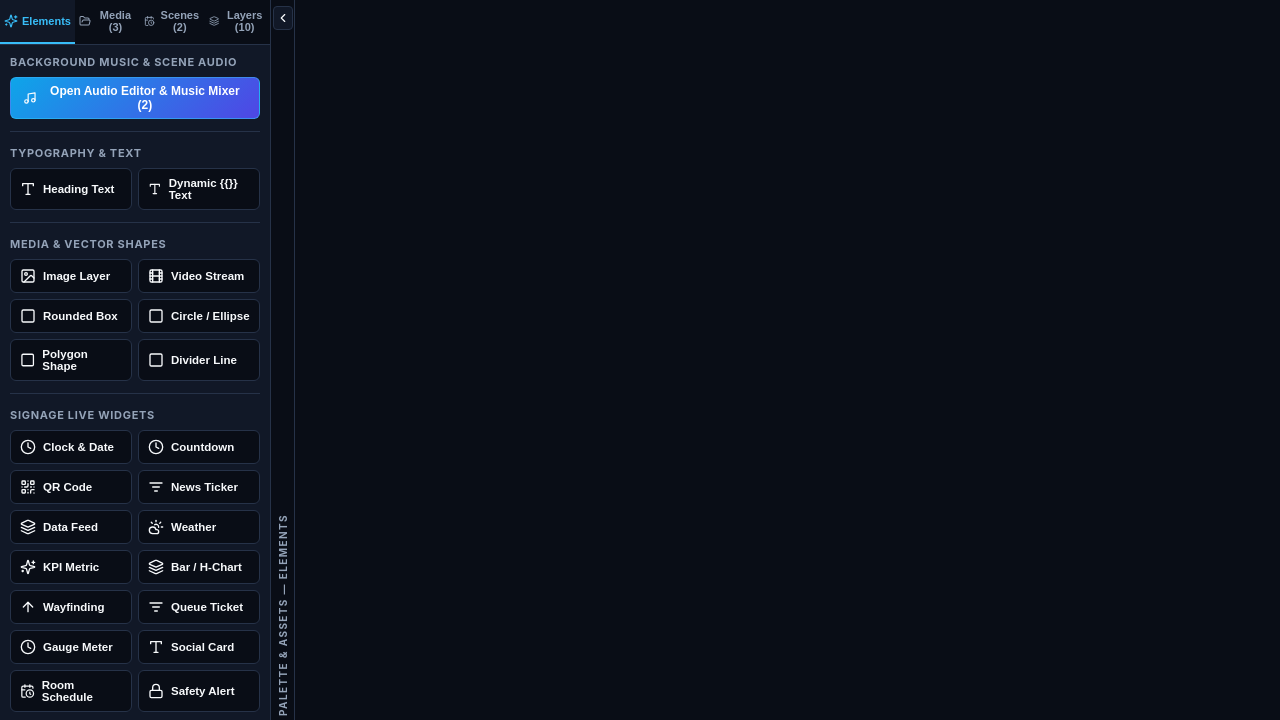
Scenario: scene template workflow › opens the choice from New Scene and creates a truly blank scene
The image size is (1280, 720).
Step 1. Click the button "Scenes (2)" → (172, 22), box x1=140 y1=0 x2=205 y2=44
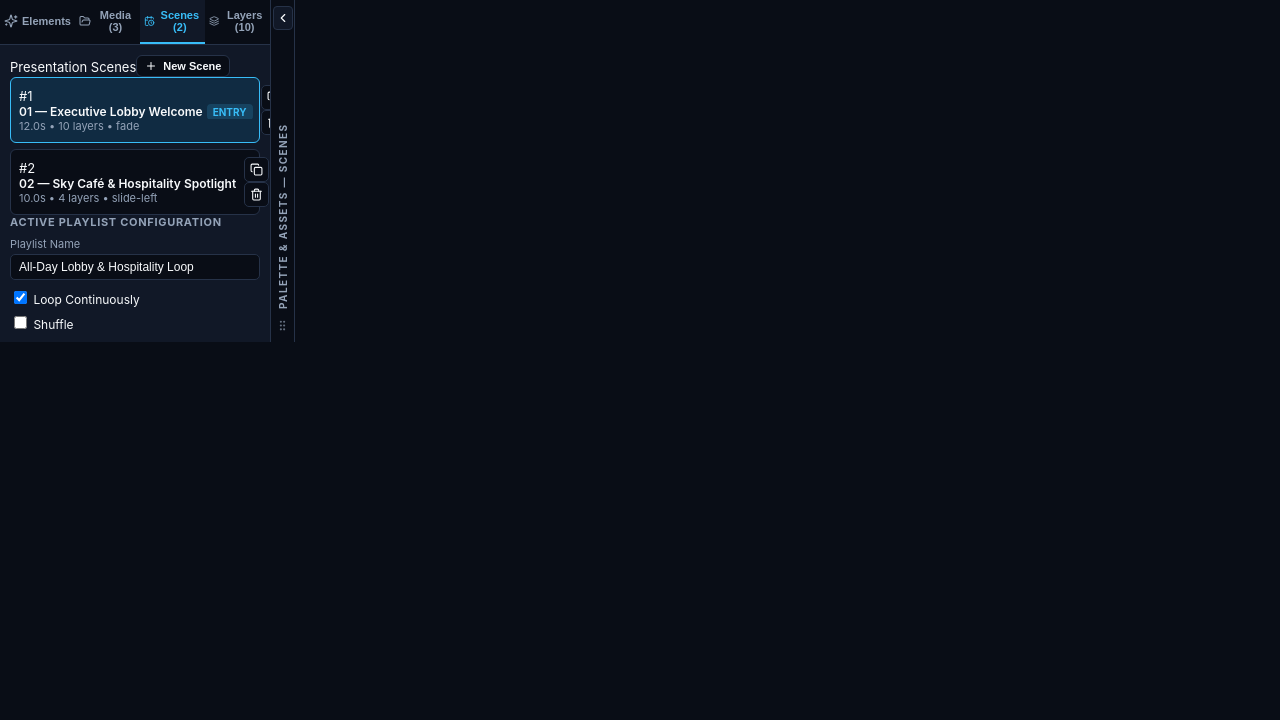
Step 2. Click the button "New Scene" → (183, 66), box x1=136 y1=55 x2=230 y2=77
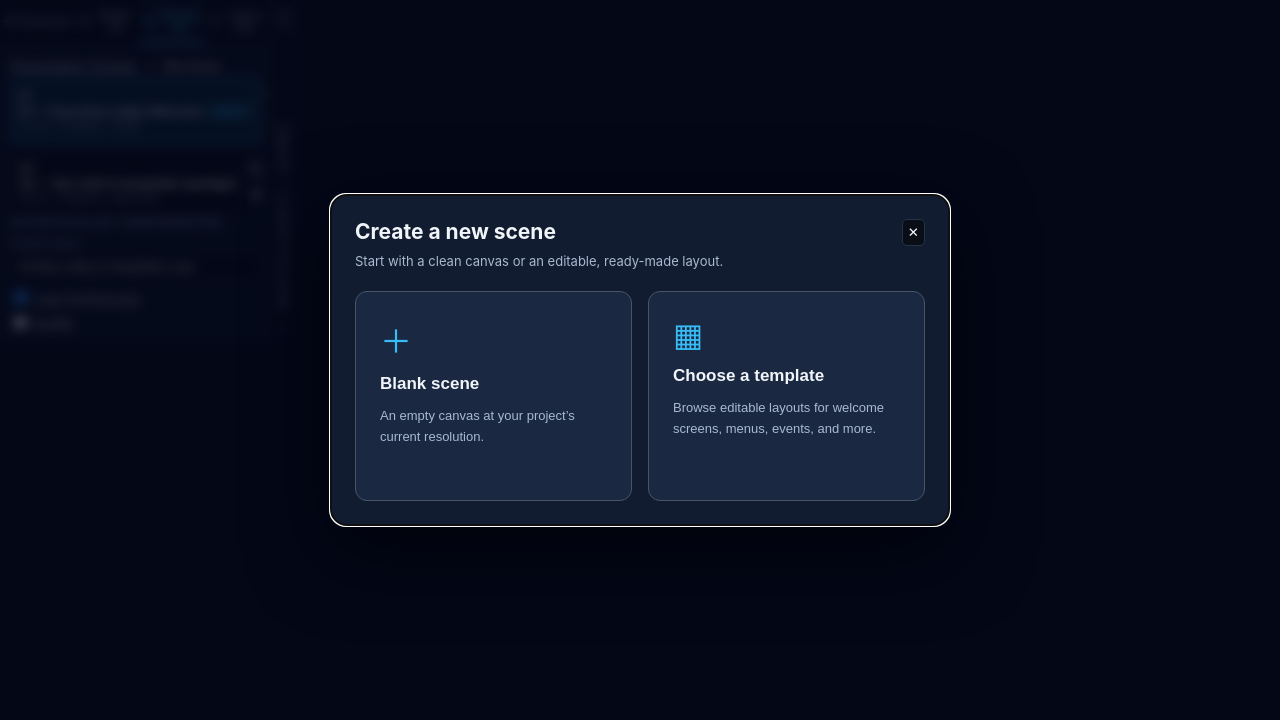
Expected: the dialog "Create a new scene" is shown, x1=330 y1=194 x2=950 y2=526
Step 3. Click the button "Blank scene" → (396, 342), box x1=355 y1=291 x2=632 y2=501
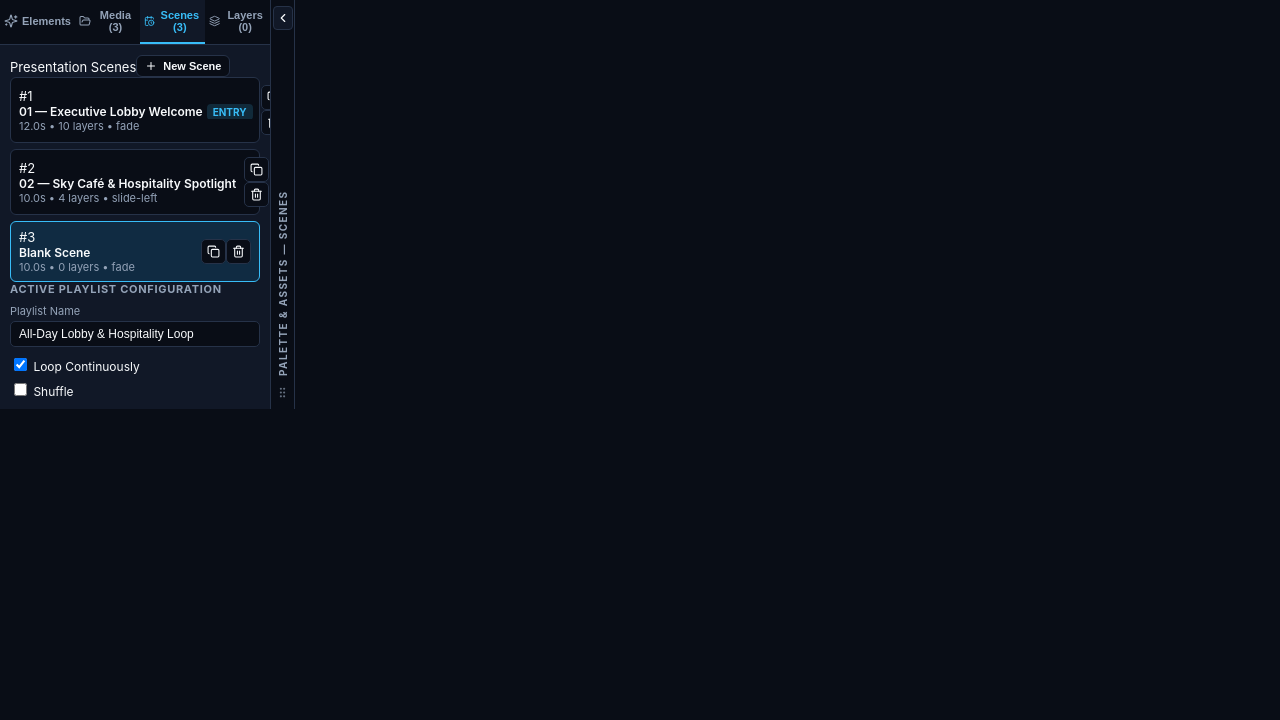
Expected: the dialog is gone
